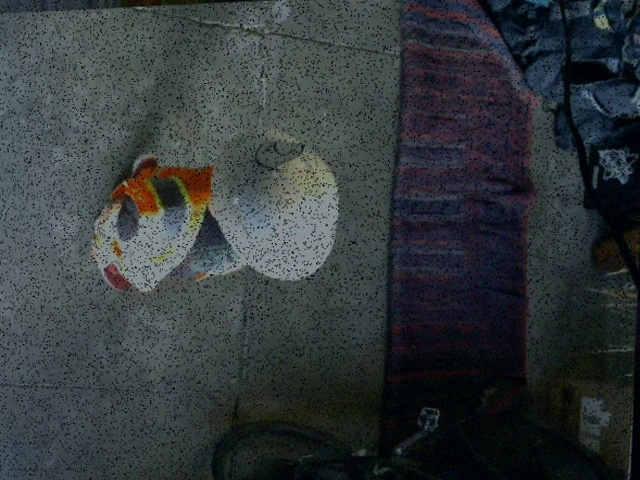two: (253, 139, 305, 167)
